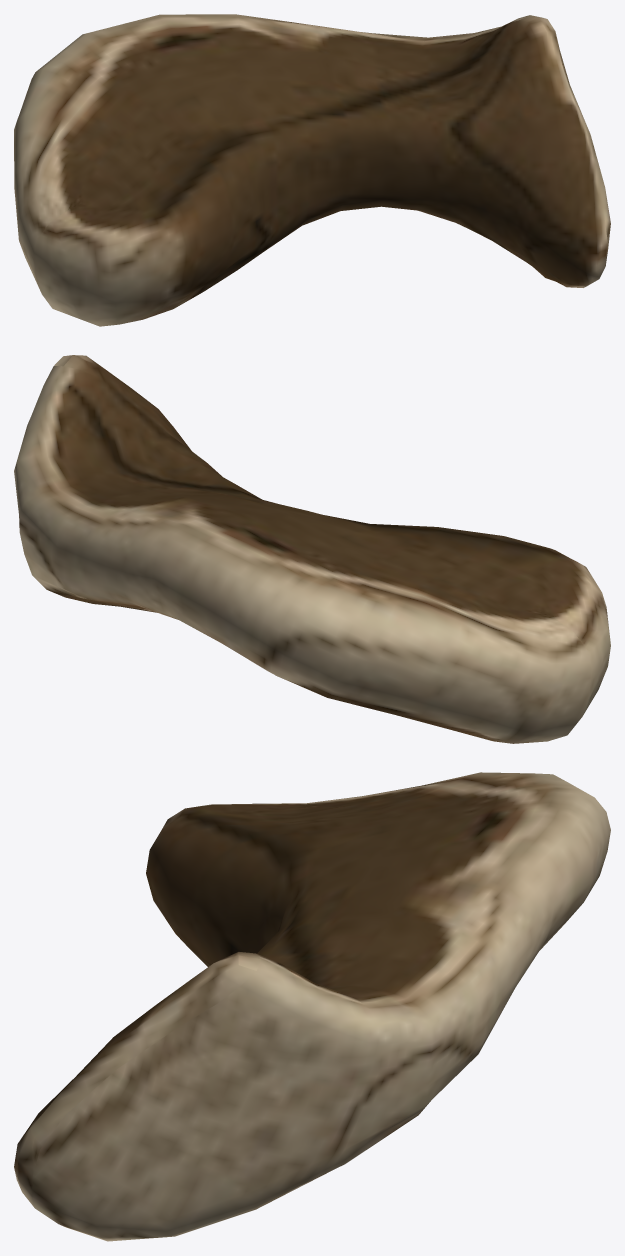
The model's file is Fourth_Tarsal.glb.
3 views of the same model, one above another, from view 1: azimuth 30°, elevation 25°; view 2: azimuth 150°, elevation 25°; view 3: azimuth 270°, elevation 25° (orthographic). The views are drawn at different scales.
Visible parts, largest first — view 1: R_Bck_Fourth_Tarsal; view 2: R_Bck_Fourth_Tarsal; view 3: R_Bck_Fourth_Tarsal.
Part boxes in pixels (left/top/right/bottom): R_Bck_Fourth_Tarsal: left=14, top=14, right=610, bottom=326; R_Bck_Fourth_Tarsal: left=14, top=355, right=610, bottom=743; R_Bck_Fourth_Tarsal: left=14, top=772, right=610, bottom=1241.
Size of the model in its own units: 0.0638 by 0.0278 by 0.0507.
1 material, 1 textured.
